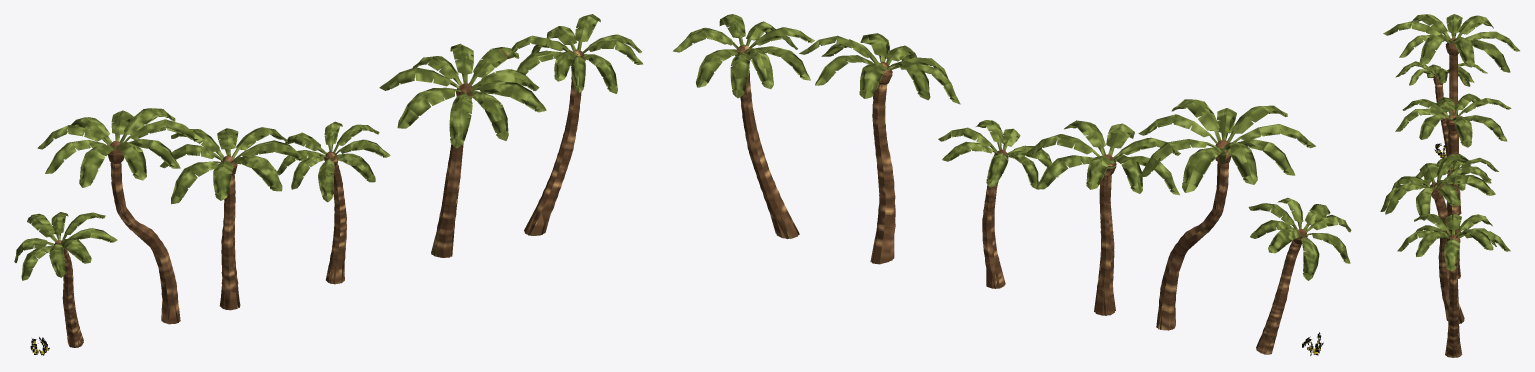
The model's file is PalmTree.fbx.
3 renders of one model, left to right at view 1: azimuth 30°, elevation 25°; view 2: azimuth 150°, elevation 25°; view 3: azimuth 270°, elevation 25°, orthographic. The views are drawn at different scales.
Visible parts, largest first — view 1: PalmE, PalmB, PalmC, PalmELowPoly, PalmF, PalmBLowPoly, PalmFLowPoly, PalmD, PalmCLowPoly, PalmA, PalmDLowPoly, PalmALowPoly; view 2: PalmB, PalmE, PalmC, PalmF, PalmBLowPoly, PalmFLowPoly, PalmELowPoly, PalmCLowPoly, PalmA, PalmD, PalmALowPoly, PalmDLowPoly; view 3: PalmB, PalmE, PalmF, PalmBLowPoly, PalmC, PalmELowPoly, PalmFLowPoly, PalmCLowPoly, PalmA, PalmALowPoly, PalmD, PalmDLowPoly.
Boxes of the visible parts, bbox=[...] form: PalmE: bbox=[379, 45, 546, 257]; PalmB: bbox=[37, 108, 203, 324]; PalmC: bbox=[160, 127, 307, 310]; PalmELowPoly: bbox=[386, 43, 539, 257]; PalmF: bbox=[511, 15, 643, 235]; PalmBLowPoly: bbox=[43, 108, 198, 323]; PalmFLowPoly: bbox=[511, 14, 639, 235]; PalmD: bbox=[277, 122, 390, 284]; PalmCLowPoly: bbox=[166, 127, 302, 309]; PalmA: bbox=[14, 212, 117, 347]; PalmDLowPoly: bbox=[279, 121, 386, 283]; PalmALowPoly: bbox=[15, 212, 113, 347]; PalmB: bbox=[1138, 100, 1315, 330]; PalmE: bbox=[799, 33, 960, 264]; PalmC: bbox=[1026, 121, 1180, 315]; PalmF: bbox=[673, 14, 814, 238]; PalmBLowPoly: bbox=[1143, 99, 1310, 329]; PalmFLowPoly: bbox=[678, 14, 810, 238]; PalmELowPoly: bbox=[808, 33, 955, 262]; PalmCLowPoly: bbox=[1032, 120, 1177, 315]; PalmA: bbox=[1248, 200, 1351, 354]; PalmD: bbox=[938, 121, 1058, 288]; PalmALowPoly: bbox=[1253, 197, 1349, 354]; PalmDLowPoly: bbox=[942, 120, 1051, 288]; PalmB: bbox=[1383, 14, 1519, 214]; PalmE: bbox=[1380, 154, 1495, 323]; PalmF: bbox=[1397, 214, 1510, 357]; PalmBLowPoly: bbox=[1390, 14, 1516, 214]; PalmC: bbox=[1395, 93, 1511, 232]; PalmELowPoly: bbox=[1383, 154, 1490, 323]; PalmFLowPoly: bbox=[1401, 214, 1506, 357]; PalmCLowPoly: bbox=[1400, 93, 1508, 214]; PalmA: bbox=[1395, 61, 1487, 156]; PalmALowPoly: bbox=[1399, 62, 1484, 151]; PalmD: bbox=[1420, 157, 1498, 278]; PalmDLowPoly: bbox=[1416, 157, 1496, 277].
Bounding box in the file's own units: 28.83 × 9.41 × 6.96.
